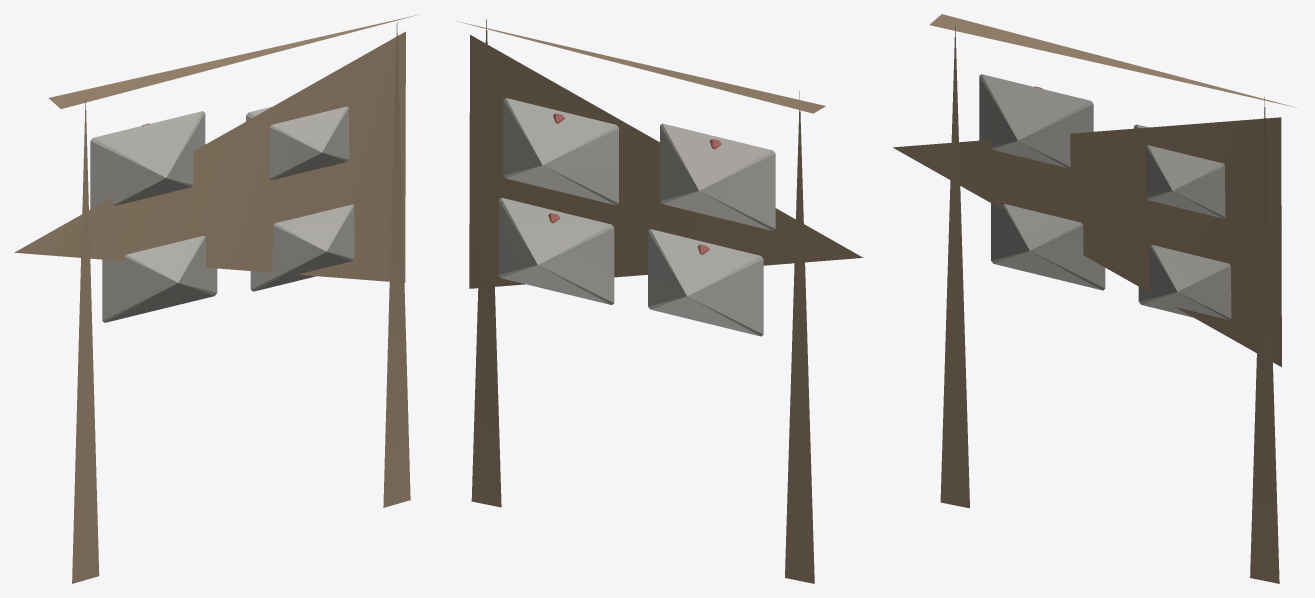
Rendered from jail_board_low.glb.
3 views of the same model, side by side, from view 1: azimuth 30°, elevation 25°; view 2: azimuth 150°, elevation 25°; view 3: azimuth 330°, elevation 25° (orthographic).
Size of the model in its own units: 1.71 by 1.95 by 0.267.
